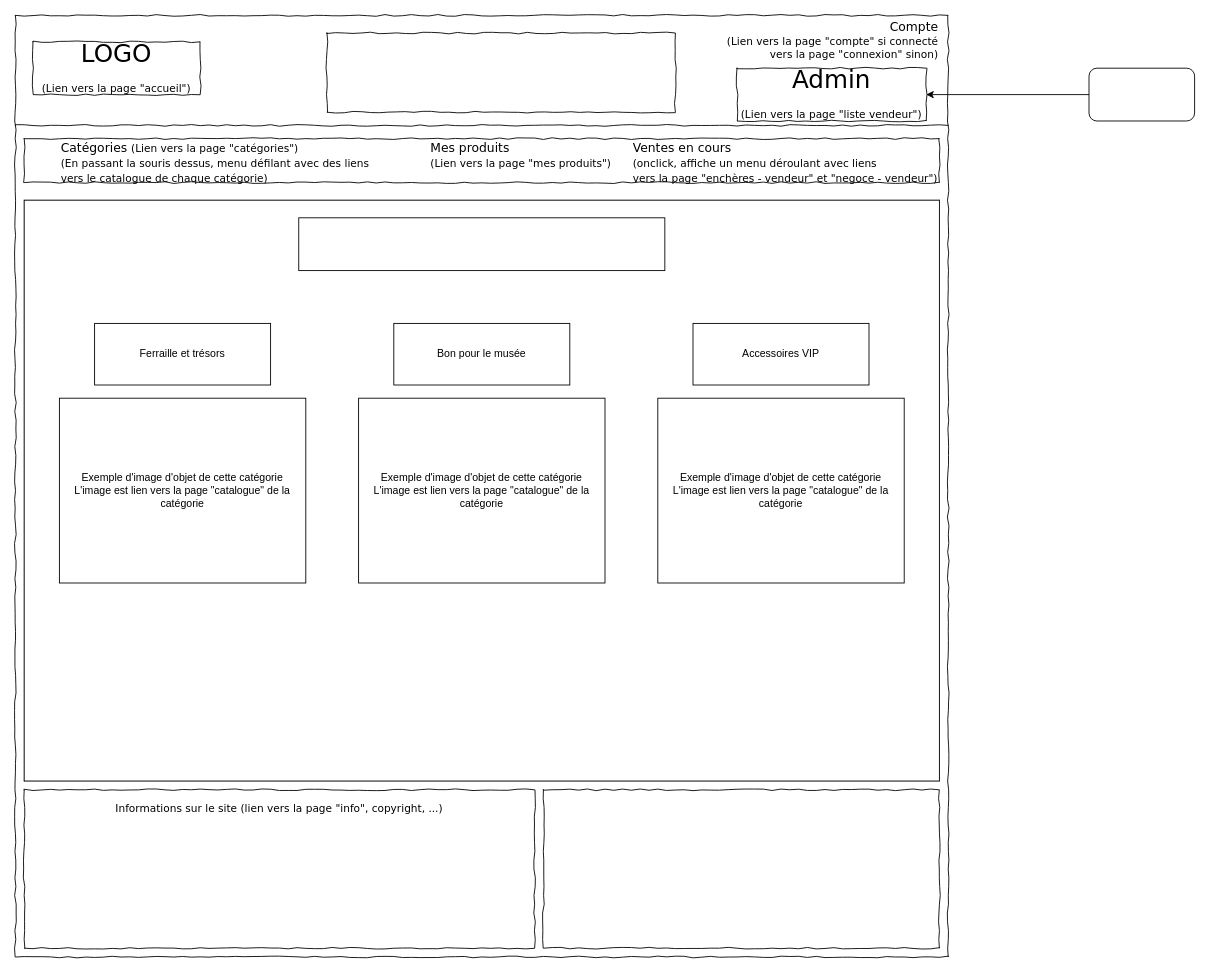
This 1210x972 diagram has some shape labels left out. The box of each missing label's shape, as (x1, y1, x2, y2) in pixels:
Bienvenue ...: (326, 32, 675, 112)
Catégories: (298, 217, 665, 271)
Nous contacter: (543, 789, 939, 948)
Uniquement visible si le vendeur connecté est un admin: (1088, 67, 1195, 121)
